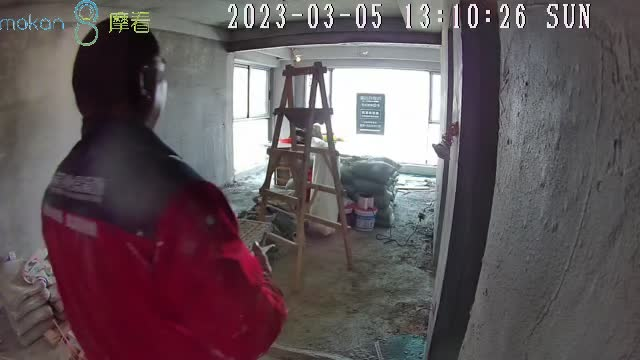people: (40, 17, 290, 360)
window: (331, 67, 432, 161)
